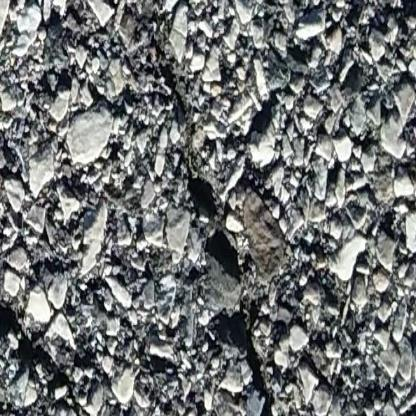Cracks: (153, 55, 243, 286), (0, 294, 120, 416), (204, 297, 295, 416)
